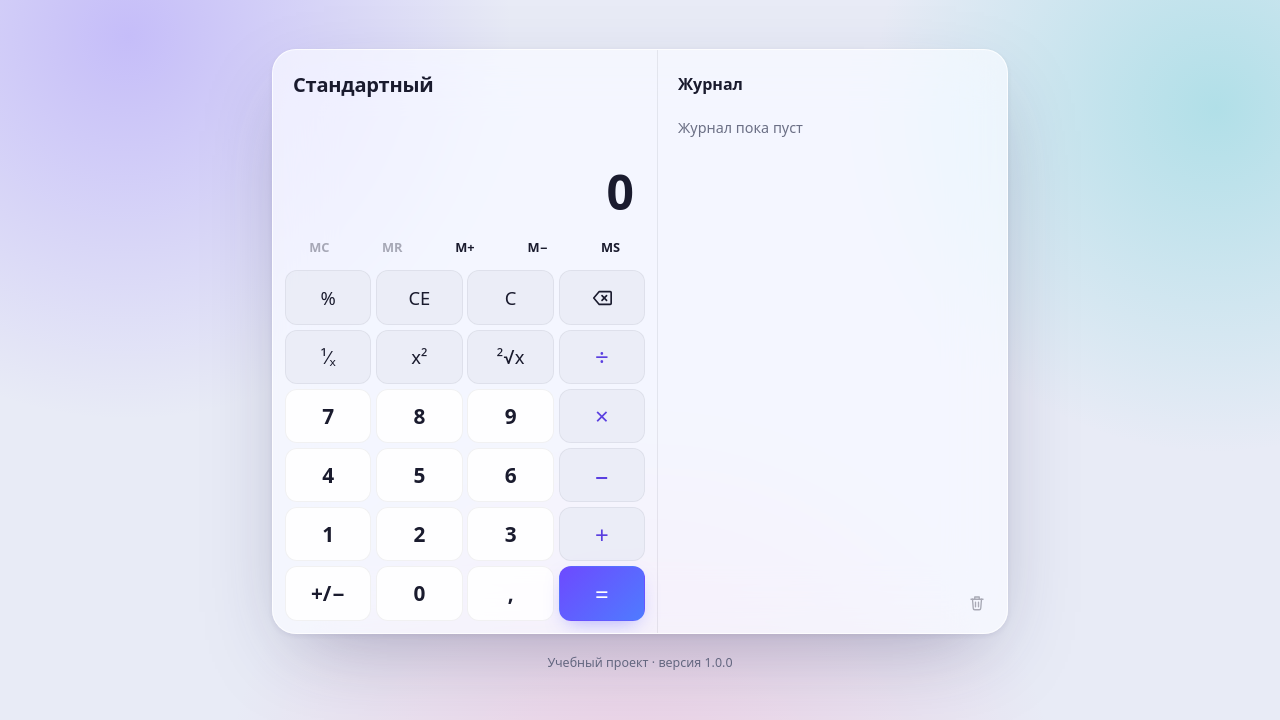
Scenario: Калькулятор › вычисляет 12 + 30 = 42
What coordinates should you click on to do the following:
click the button "1"
I would click on:
 (328, 534)
Its box is [285, 507, 371, 562].
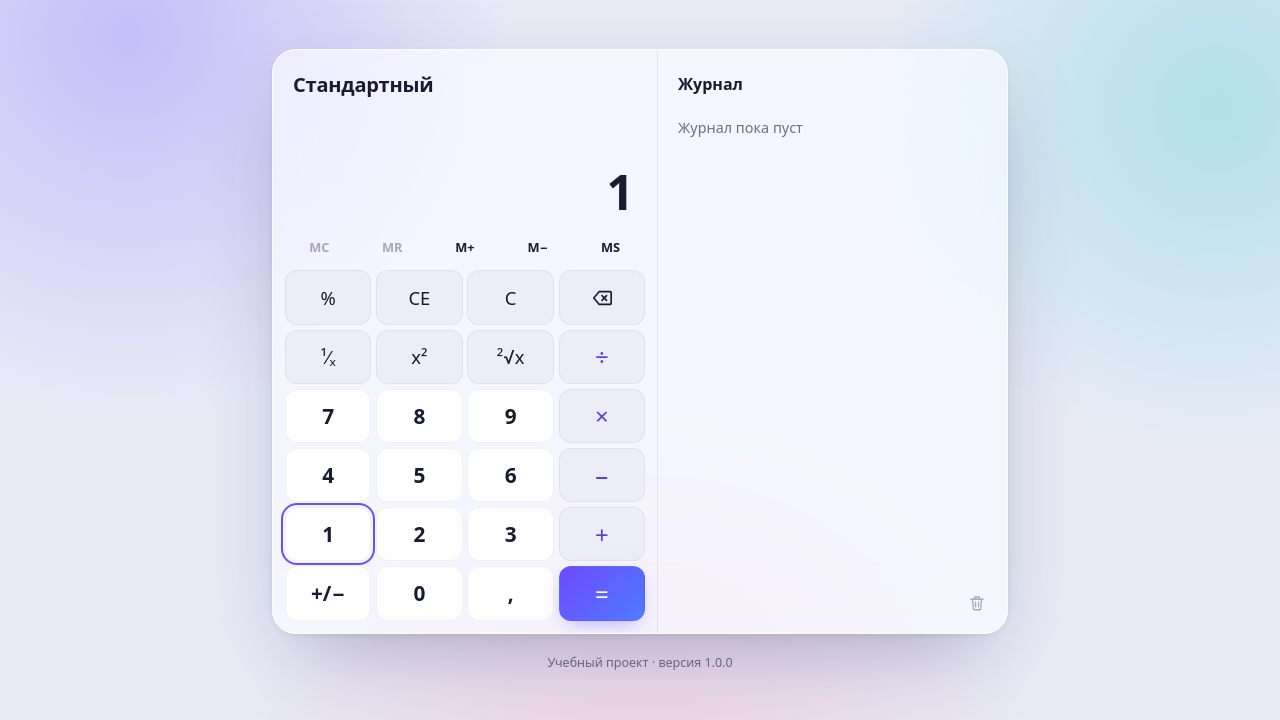
What coordinates should you click on to do the following:
click the button "2"
I would click on:
 (419, 534)
Its box is [376, 507, 463, 562].
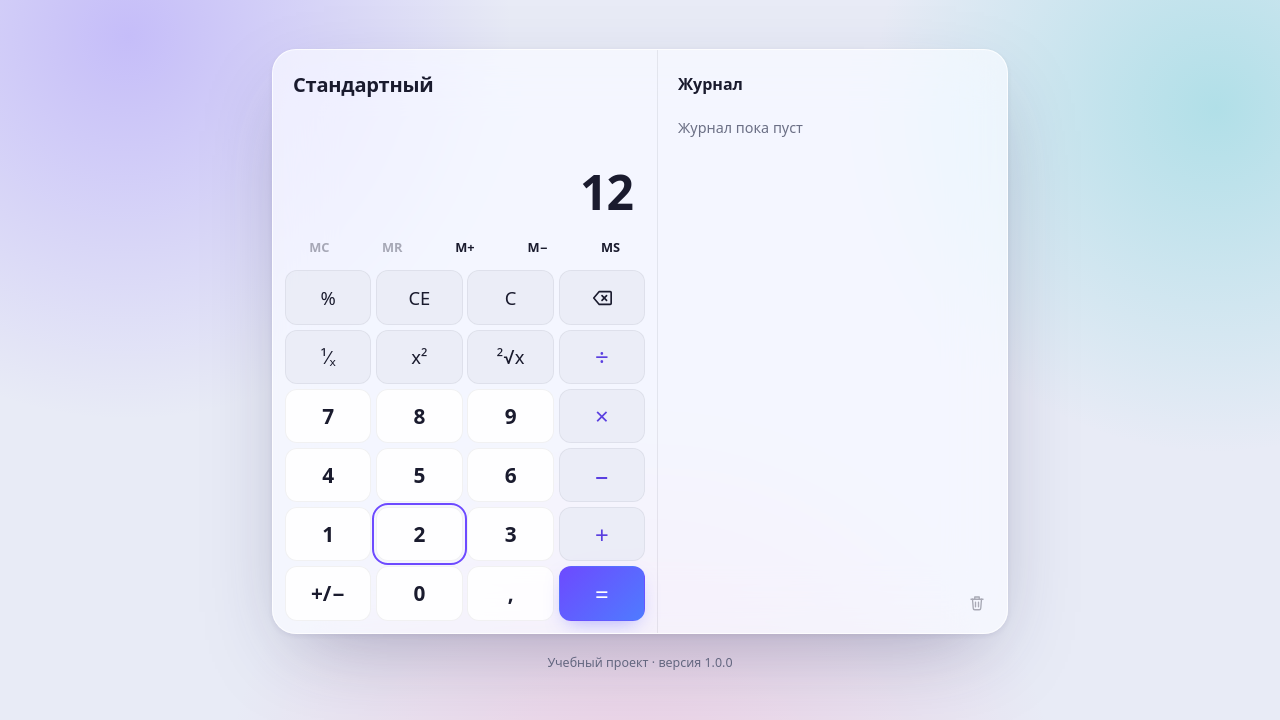
What coordinates should you click on to do the following:
click the button "+"
I would click on:
 (602, 534)
Its box is [559, 507, 645, 562].
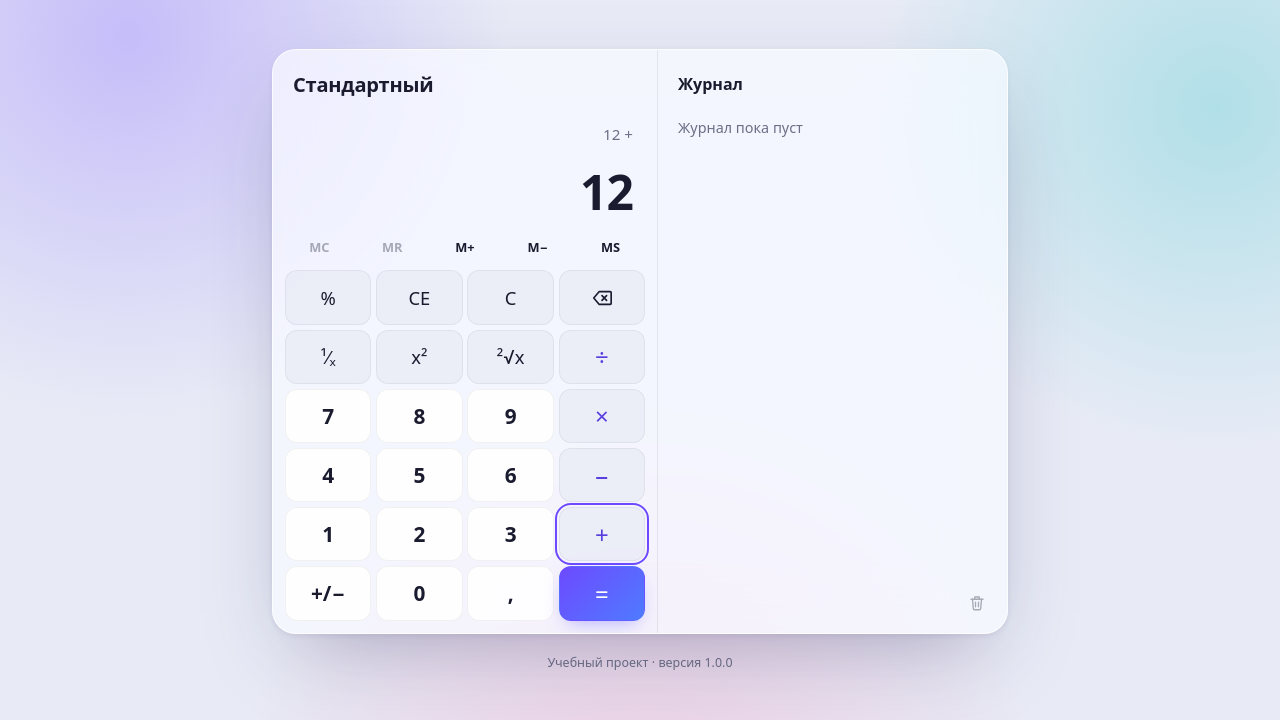
What coordinates should you click on to do the following:
click the button "3"
I would click on:
 (511, 534)
Its box is [467, 507, 554, 562].
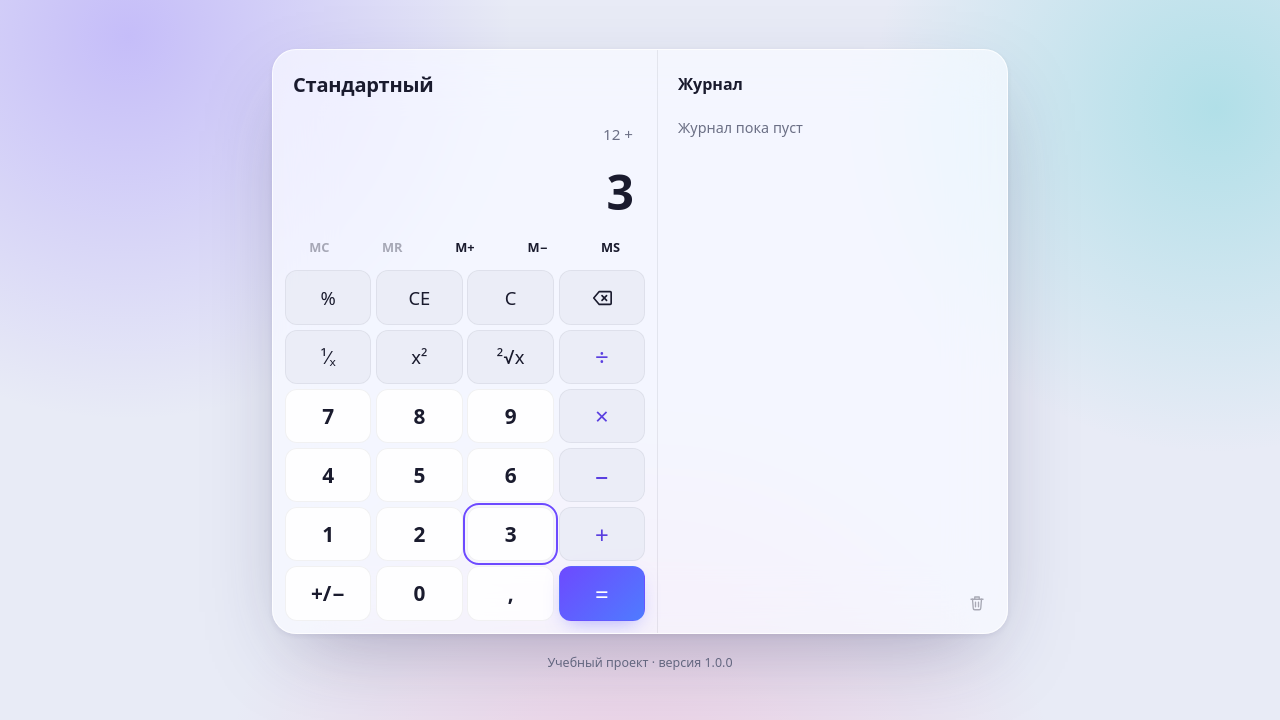
What coordinates should you click on to do the following:
click the button "0"
I would click on:
 (419, 594)
Its box is [376, 566, 463, 621].
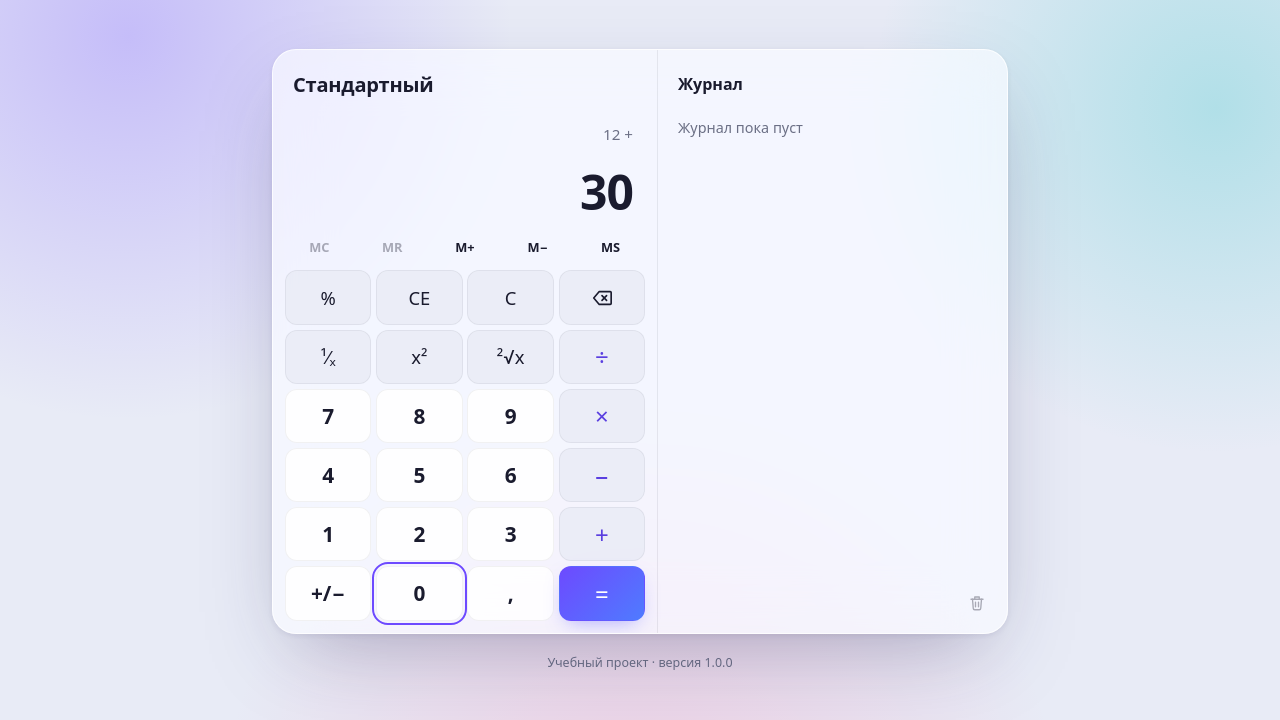
What coordinates should you click on to do the following:
click the button "="
I would click on:
 (602, 594)
Its box is [559, 566, 645, 621].
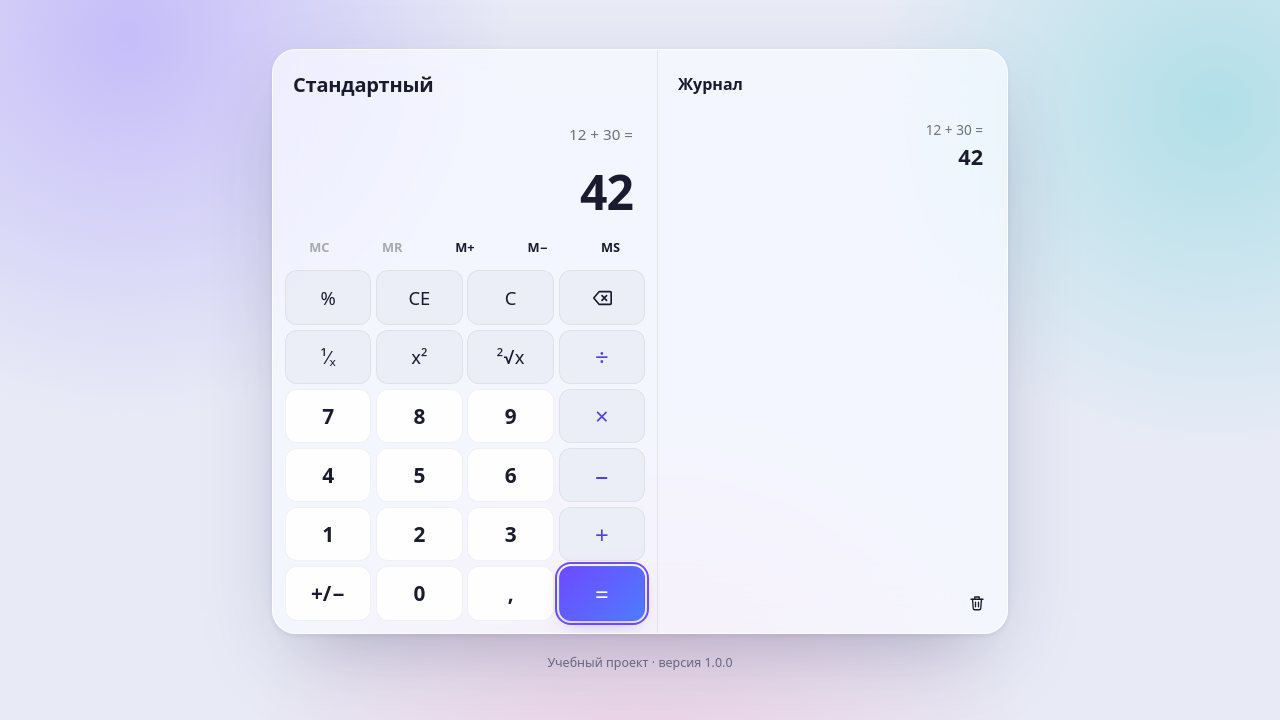
Result: the text with test id "display" below "Стандартный" reads "42" at [580, 158, 633, 224]
Result: the text with test id "expression" reads "12 + 30 =" at [569, 124, 633, 144]
